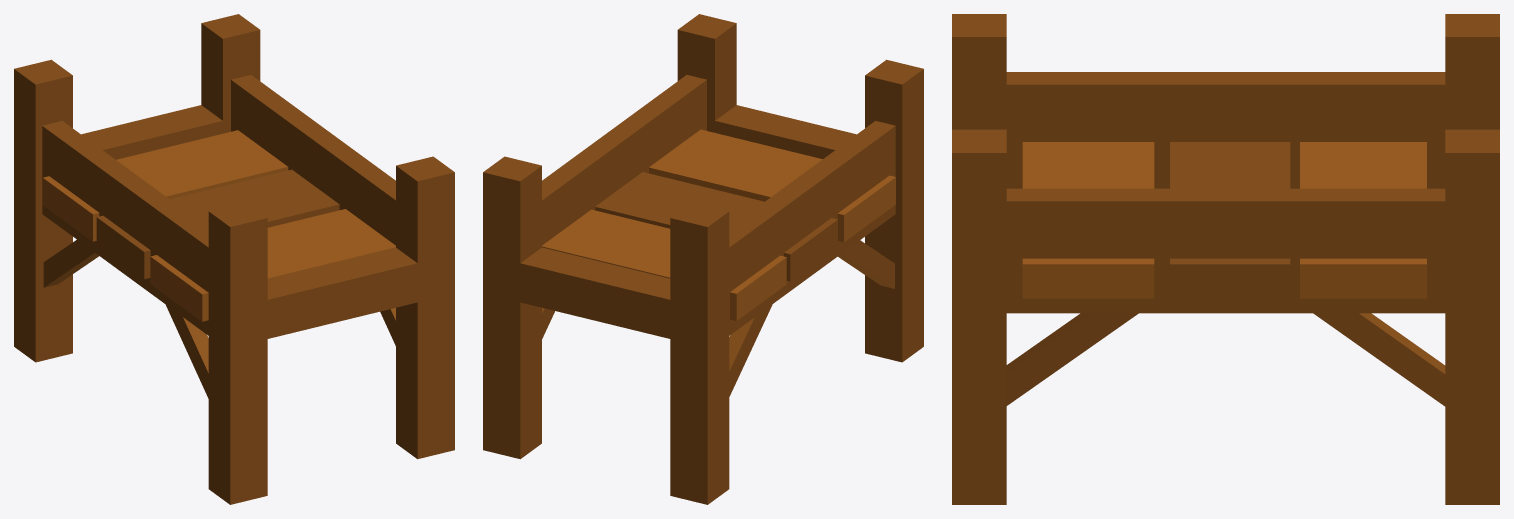
Rendered from bridge_straight.fbx.
3 views of the same model, side by side, from view 1: azimuth 30°, elevation 25°; view 2: azimuth 150°, elevation 25°; view 3: azimuth 270°, elevation 25° (orthographic). The views are drawn at different scales.
Visible parts, largest first — view 1: polySurface22; view 2: polySurface22; view 3: polySurface22.
Boxes of the visible parts, bbox=[...] form: polySurface22: bbox=[14, 14, 454, 504]; polySurface22: bbox=[483, 14, 923, 504]; polySurface22: bbox=[952, 14, 1499, 504].
Size of the model in its own units: 60 by 70.89 by 100.
1 material, 1 textured.
